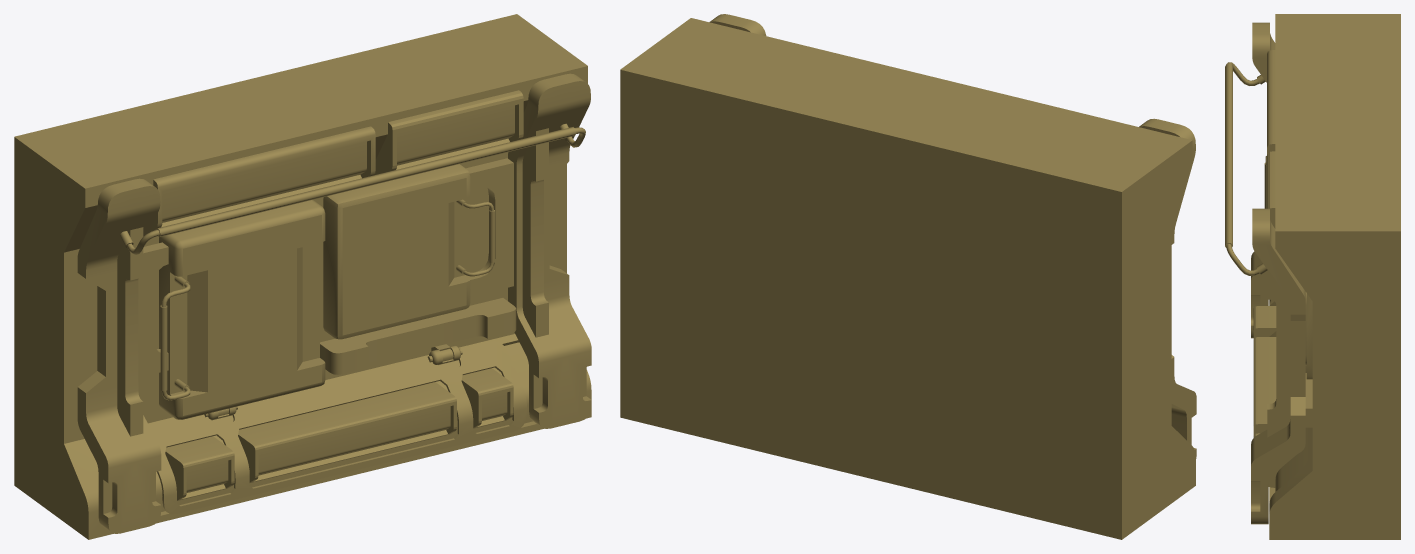
Rendered from Wall_B.FBX.
3 views of the same model, side by side, from view 1: azimuth 30°, elevation 25°; view 2: azimuth 150°, elevation 25°; view 3: azimuth 270°, elevation 25° (orthographic). The views are drawn at different scales.
Visible parts, largest first — view 1: Wall_B; view 2: Wall_B; view 3: Wall_B.
Boxes of the visible parts, <box> form: Wall_B: <box>14,14,591,539</box>; Wall_B: <box>620,14,1196,539</box>; Wall_B: <box>1225,14,1400,539</box>.
Size of the model in its own units: 400 by 265 by 137.
